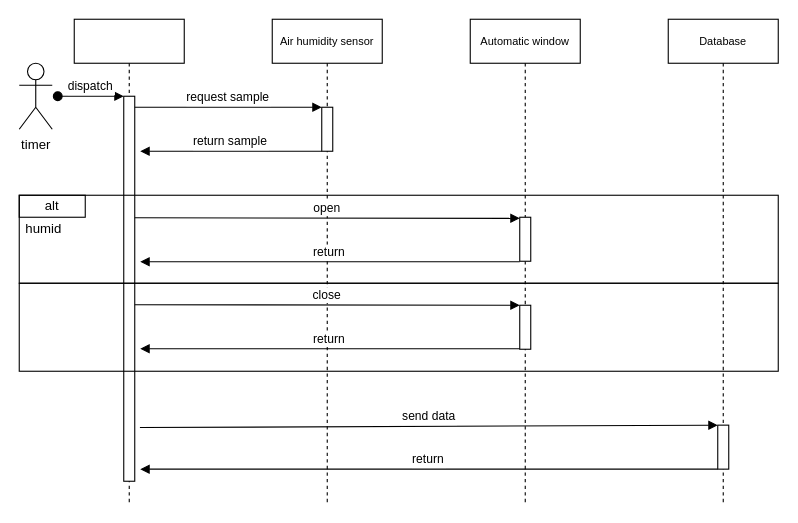
This 798x523 diagram has some shape labels left out. Here are the shapes that lost their labels. From the top down, the box of each, then its label:
(73, 18, 184, 503): Raspberry PI
(18, 282, 778, 371): dry
